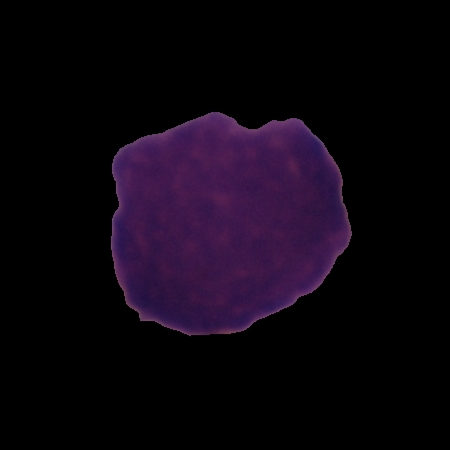HEM: (106, 108, 355, 340)
